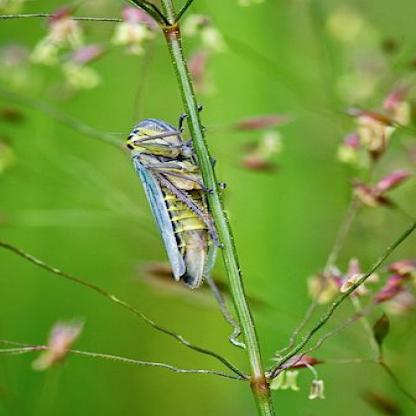Green-Leafhopper: (122, 104, 234, 288)
